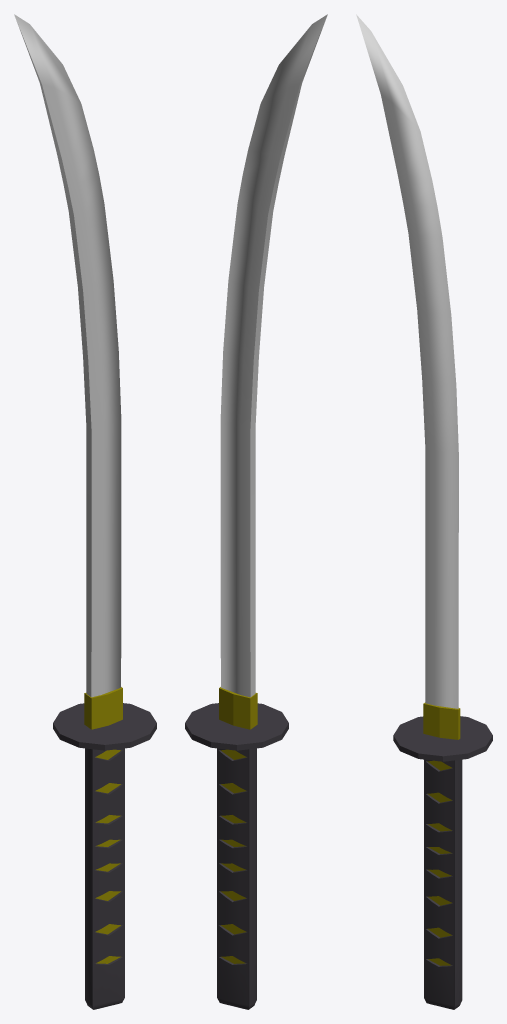
Rendered from WEAPON_Katana.fbx.
3 views of the same model, side by side, from view 1: azimuth 30°, elevation 25°; view 2: azimuth 150°, elevation 25°; view 3: azimuth 330°, elevation 25° (orthographic). The views are drawn at different scales.
Parts seen in each view (by area): view 1: katanaBlade, katanaPommel, katanaHilt; view 2: katanaBlade, katanaPommel, katanaHilt; view 3: katanaBlade, katanaPommel, katanaHilt.
Boxes of the visible parts, x1=… form: katanaBlade: x1=14, y1=14, x2=121, y2=697; katanaPommel: x1=85, y1=748, x2=124, y2=1009; katanaHilt: x1=53, y1=687, x2=156, y2=750; katanaBlade: x1=220, y1=14, x2=327, y2=697; katanaPommel: x1=217, y1=748, x2=256, y2=1009; katanaHilt: x1=185, y1=687, x2=288, y2=750; katanaBlade: x1=356, y1=14, x2=458, y2=708; katanaPommel: x1=424, y1=759, x2=462, y2=1009; katanaHilt: x1=393, y1=702, x2=492, y2=761.
Size of the model in its own units: 10.22 by 72.88 by 6.77.
